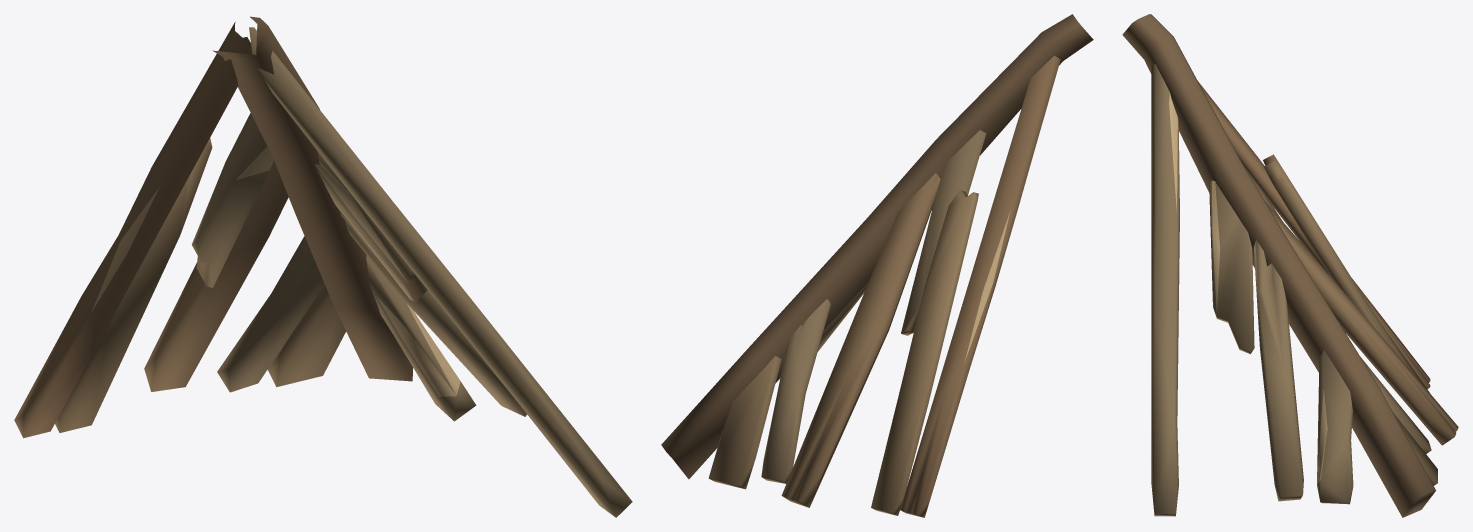
The model's file is rpgpp_av_roof_02_6x5x3_corner_02.gltf.
The picture shows the model from 3 angles, left to right: view 1: azimuth 30°, elevation 25°; view 2: azimuth 150°, elevation 25°; view 3: azimuth 270°, elevation 25°; orthographic projection. The views are drawn at different scales.
Visible parts, largest first — view 1: rpgpp_av_roof_02_6x5x3_corner_02; view 2: rpgpp_av_roof_02_6x5x3_corner_02; view 3: rpgpp_av_roof_02_6x5x3_corner_02.
Boxes of the visible parts, left/top/right/bottom form: rpgpp_av_roof_02_6x5x3_corner_02: left=14, top=16, right=632, bottom=517; rpgpp_av_roof_02_6x5x3_corner_02: left=661, top=14, right=1093, bottom=517; rpgpp_av_roof_02_6x5x3_corner_02: left=1122, top=14, right=1458, bottom=517.
Bounding box in the file's own units: 0.0395 × 0.0526 × 0.0416.
Materials: 1 (1 with a texture image).
